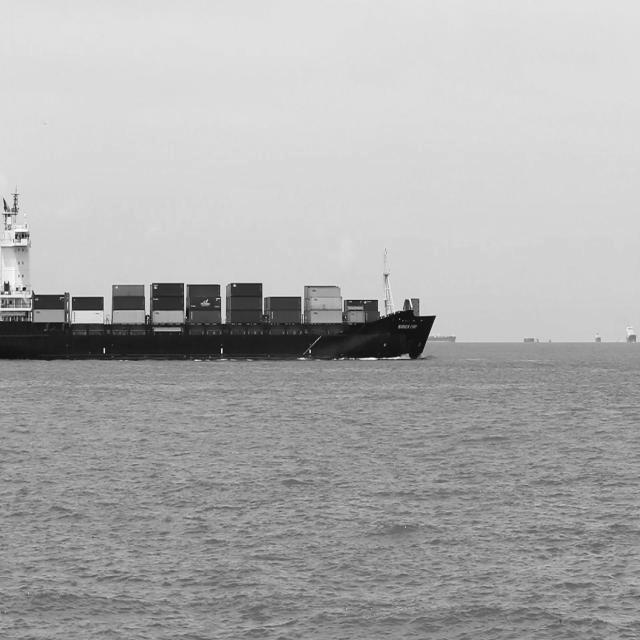ship: (0, 183, 442, 361), (429, 322, 462, 344), (622, 319, 640, 347), (522, 328, 542, 351), (593, 324, 607, 346)
